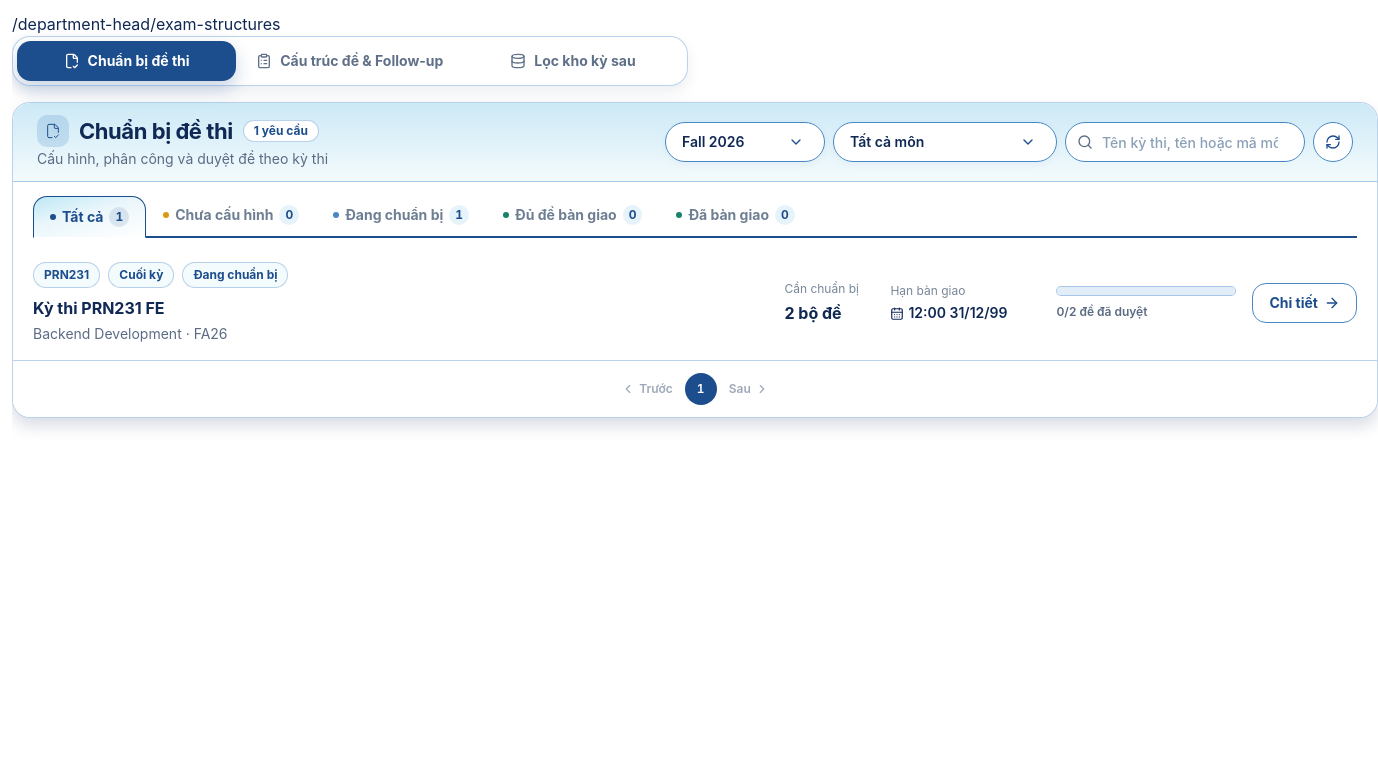
Test: Chuẩn bị đề thi trưởng bộ môn › defaults to current semester and links the request to its detail
The image size is (1378, 780).
Check: the button with aria-label "Học kỳ" reads "Fall 2026", box [665,122,825,162]
Step 1. Click the link "Kỳ thi PRN231 FE" → point(695, 303), box [33,246,1357,360]
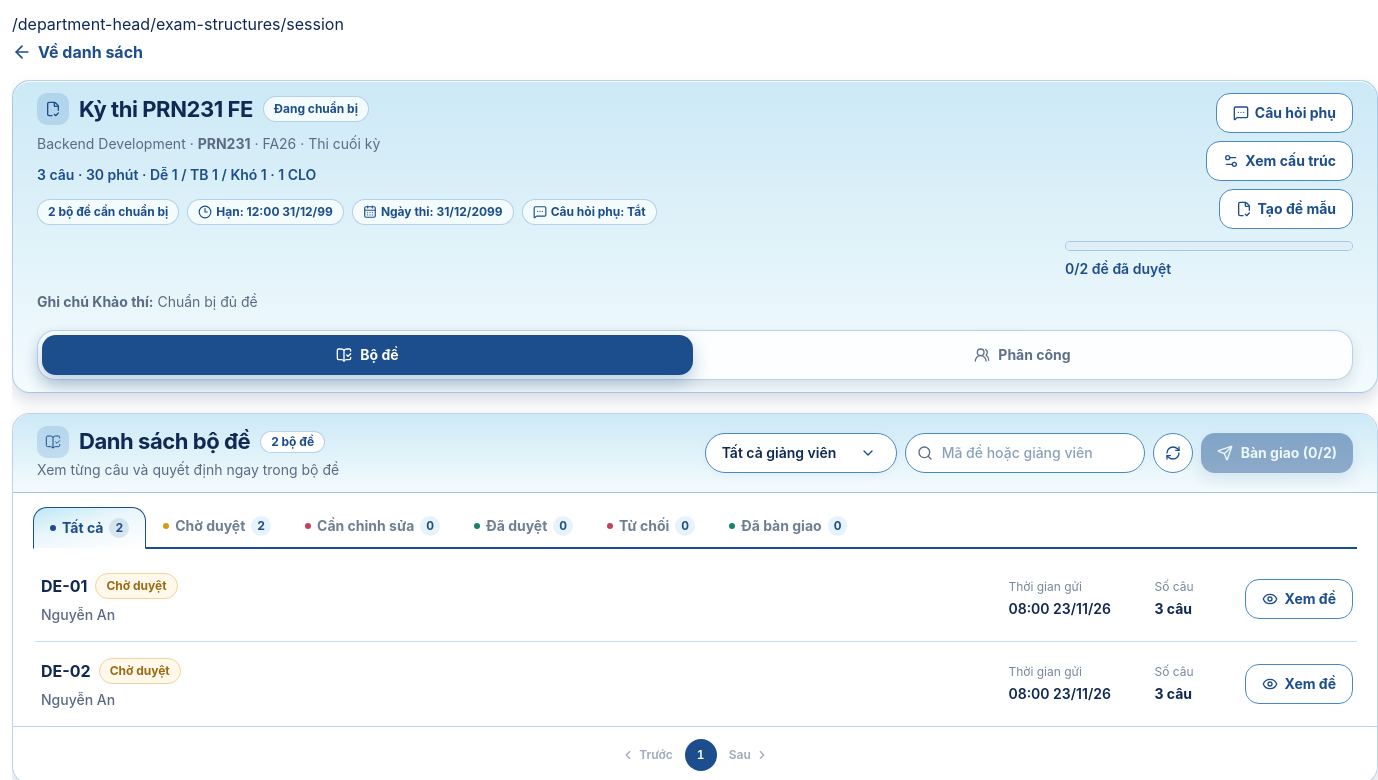
Check: the heading "Danh sách bộ đề" is shown, box [79,426,250,457]
